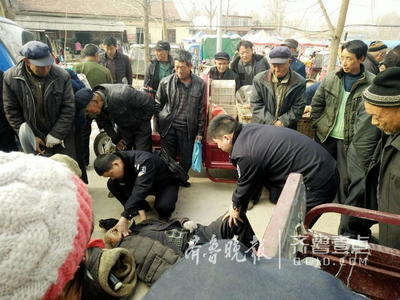fall: (86, 202, 266, 290)
